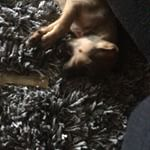puppy: (37, 3, 129, 81)
